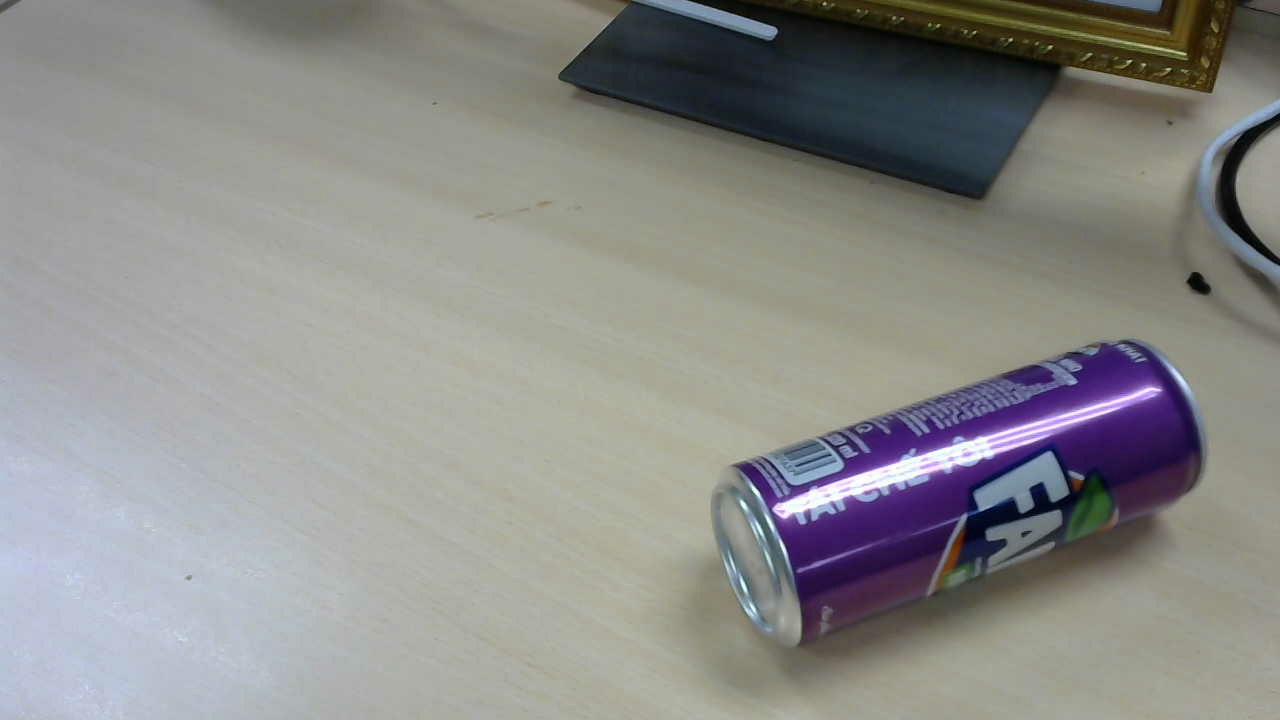Fanta: (715, 342, 1214, 650)
